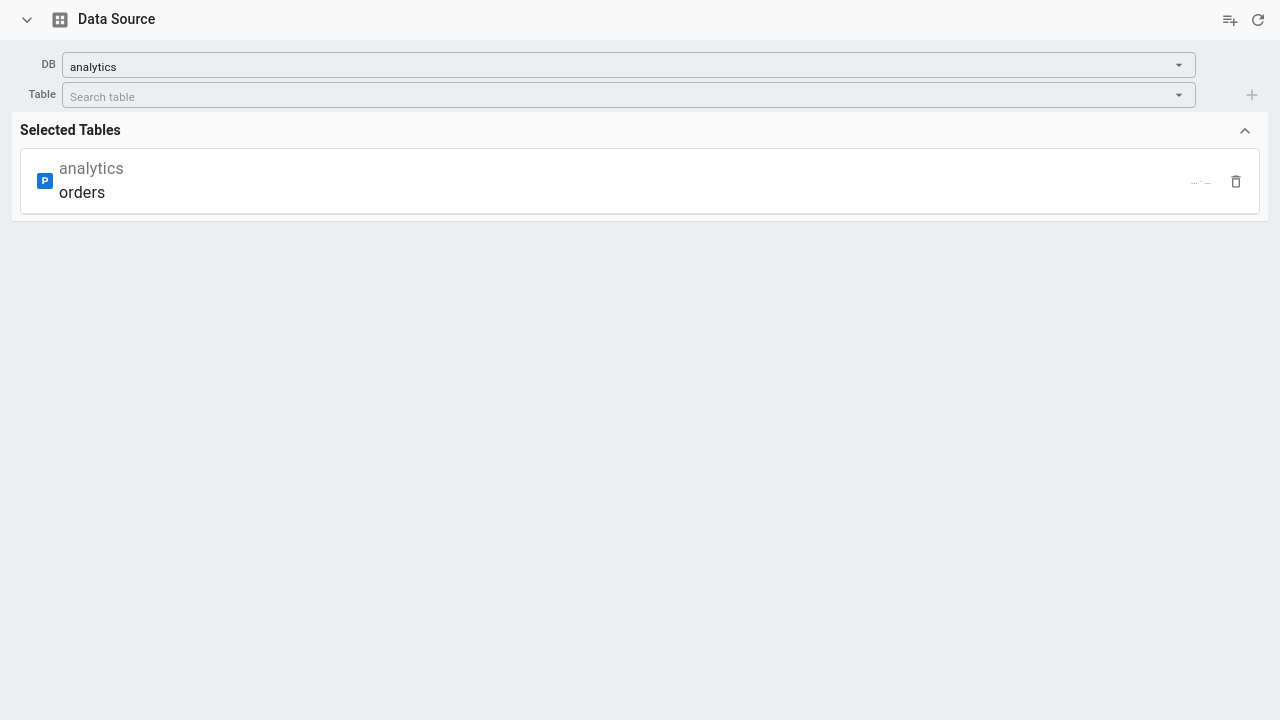
Test: CompactMetadataSelector › opens the ClickHouse pattern picker from the header without collapsing Data Source
The width and height of the screenshot is (1280, 720).
Step 1. Click the button named "Add tables by pattern" → click(1230, 20), box [1220,10,1240,30]
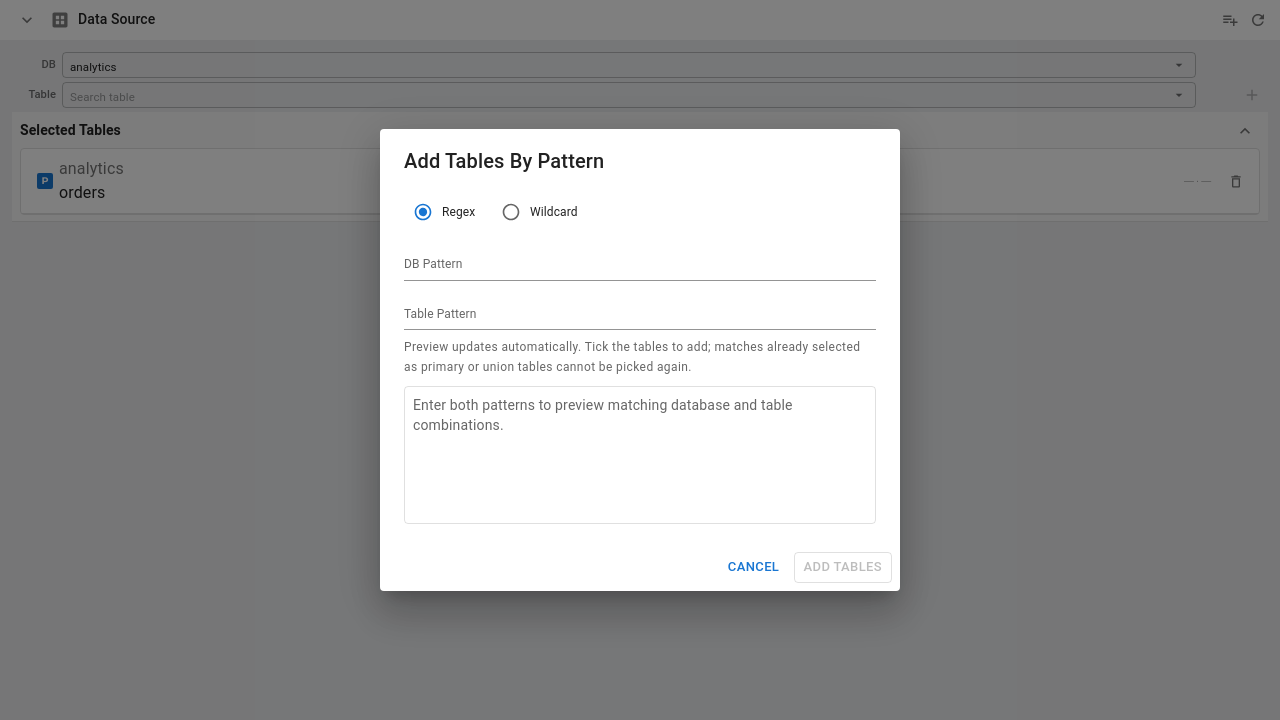
Expected: the dialog "Add Tables By Pattern" is shown, [380,130,900,591]
